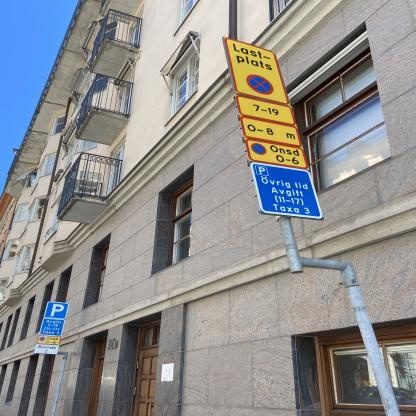lastplats: (223, 39, 292, 106)
